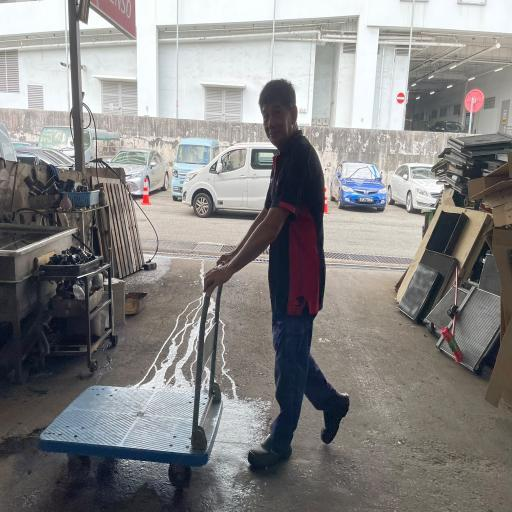person_left: (40, 80, 349, 487)
